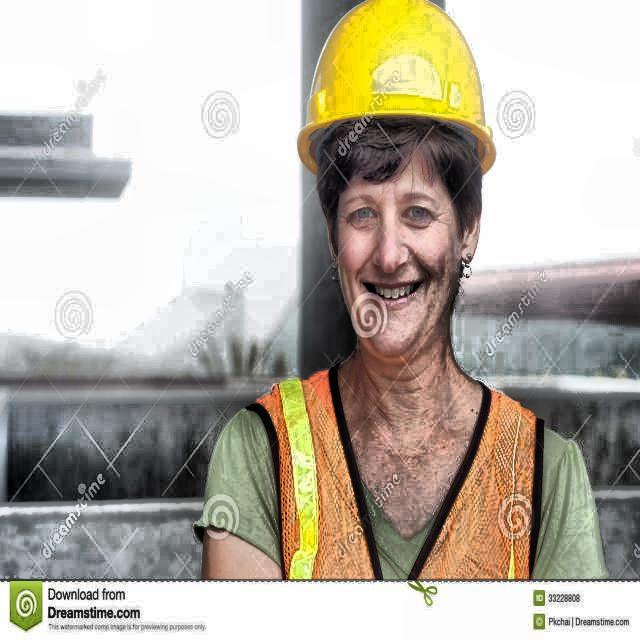person: (200, 1, 610, 592)
